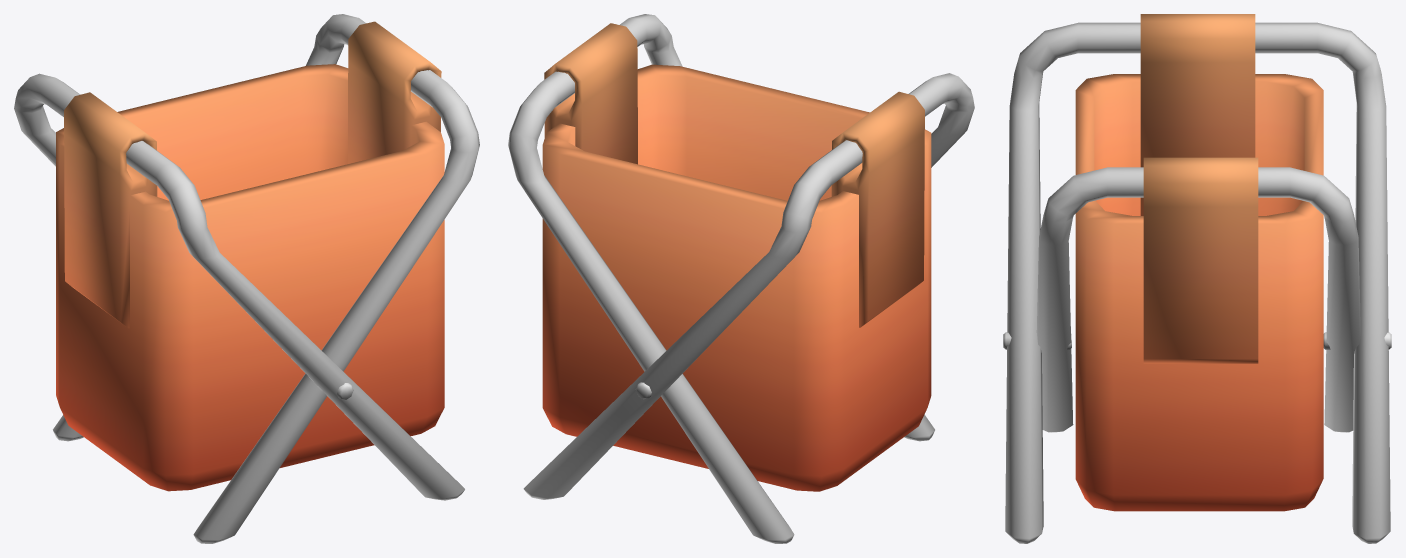
File: SM_Clothes_Hamper_7.fbx
3 views of the same model, side by side, from view 1: azimuth 30°, elevation 25°; view 2: azimuth 150°, elevation 25°; view 3: azimuth 270°, elevation 25° (orthographic). The views are drawn at different scales.
Parts seen in each view (by area): view 1: SM_Clothes_Hamper_7; view 2: SM_Clothes_Hamper_7; view 3: SM_Clothes_Hamper_7.
Part boxes in pixels (x1,y1,x2,y2): SM_Clothes_Hamper_7: (14,14,479,543); SM_Clothes_Hamper_7: (508,14,974,543); SM_Clothes_Hamper_7: (1003,14,1391,543).
Size of the model in its own units: 63.18 by 71.11 by 63.69.
Materials: 1 (1 with a texture image).
